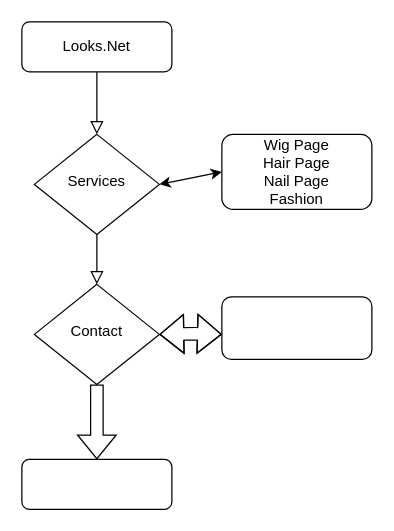
Some shapes in this 394 by 531 pixel diagram are drawn without their labels. Each missing label, with the centre of its shape:
Address Email Employees: point (296, 327)
Information: point (96, 483)
